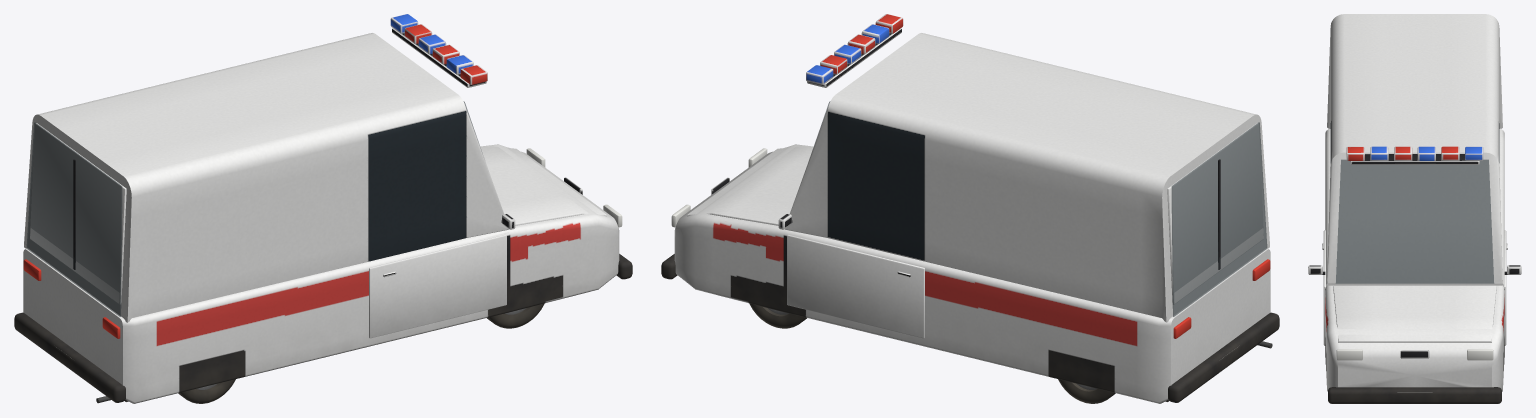
The model's file is ambulancia-van.glb.
3 renders of one model, left to right at view 1: azimuth 30°, elevation 25°; view 2: azimuth 150°, elevation 25°; view 3: azimuth 270°, elevation 25°, orthographic. The views are drawn at different scales.
Parts seen in each view (by area): view 1: body, glass_rear, trunk, door_fr, hood, bumper_rear, wheel_fr_tire, wheel_rr_tire; view 2: body, glass_rear, trunk, door_fl, hood, bumper_rear, wheel_fl_tire, wheel_rl_tire; view 3: body, glass_windshield, hood, bumper_front, door_fl, door_fr, headlight_left, headlight_right.
Part boxes in pixels (x1=…): body: x1=23, y1=14, x2=619, y2=403; glass_rear: x1=26, y1=122, x2=122, y2=316; trunk: x1=30, y1=123, x2=126, y2=304; door_fr: x1=369, y1=234, x2=506, y2=338; hood: x1=480, y1=146, x2=606, y2=225; bumper_rear: x1=14, y1=312, x2=125, y2=402; wheel_fr_tire: x1=487, y1=303, x2=544, y2=328; wheel_rr_tire: x1=178, y1=379, x2=235, y2=403; body: x1=674, y1=14, x2=1272, y2=403; glass_rear: x1=1171, y1=122, x2=1267, y2=316; trunk: x1=1167, y1=123, x2=1263, y2=304; door_fl: x1=787, y1=234, x2=924, y2=338; hood: x1=687, y1=146, x2=813, y2=225; bumper_rear: x1=1168, y1=312, x2=1279, y2=402; wheel_fl_tire: x1=749, y1=303, x2=806, y2=328; wheel_rl_tire: x1=1058, y1=379, x2=1115, y2=403; body: x1=1308, y1=14, x2=1521, y2=392; glass_windshield: x1=1336, y1=159, x2=1493, y2=283; hood: x1=1333, y1=285, x2=1496, y2=342; bumper_front: x1=1328, y1=387, x2=1501, y2=403; door_fl: x1=1503, y1=230, x2=1507, y2=345; door_fr: x1=1322, y1=230, x2=1326, y2=345; headlight_left: x1=1467, y1=349, x2=1493, y2=360; headlight_right: x1=1336, y1=349, x2=1362, y2=360.
Size of what is drawn, in the model's own units: 5.85 by 2.7 by 2.44.
Materials: 6 (5 with a texture image).
